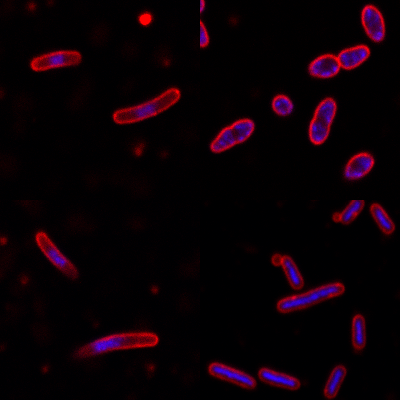Mecillinam: (307, 45, 370, 80), (209, 117, 254, 154), (308, 97, 337, 147), (360, 4, 386, 43)
Nalidixate: (111, 86, 180, 124), (29, 49, 84, 72)
Oblique: (68, 331, 158, 362), (33, 231, 80, 278), (342, 152, 375, 183), (271, 94, 294, 116)
Rifampicin: (274, 281, 345, 314), (206, 360, 258, 392), (257, 365, 300, 393), (276, 253, 305, 290), (367, 202, 396, 236), (321, 363, 348, 399), (337, 197, 365, 225), (350, 312, 368, 351)
Vesicle: (131, 139, 145, 158), (137, 11, 152, 27), (149, 284, 160, 295), (0, 235, 9, 248)
